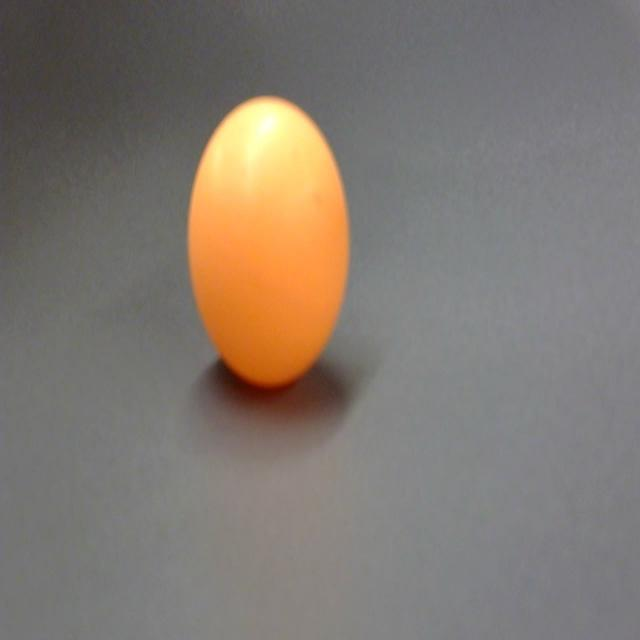ball: (183, 89, 354, 394)
